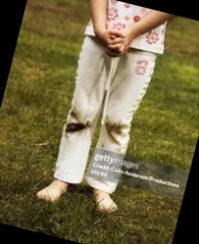earth: (65, 111, 92, 139), (101, 118, 126, 143)
